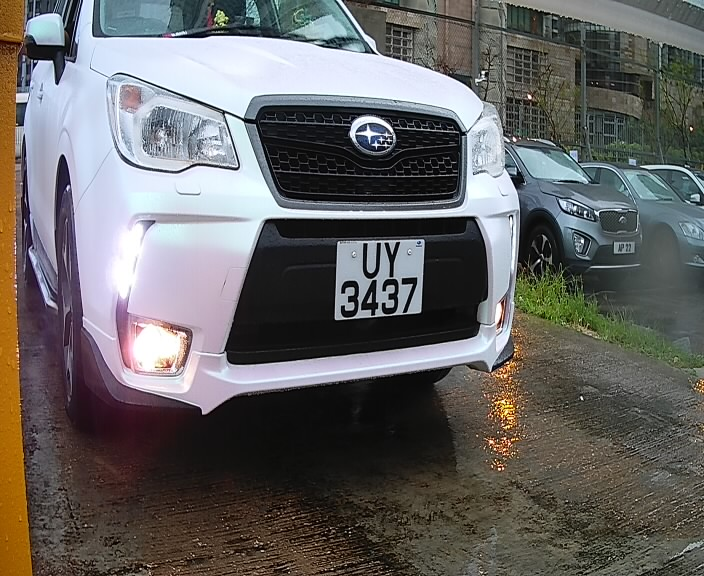Car: (28, 0, 532, 462)
License Plate: (326, 226, 436, 334)
